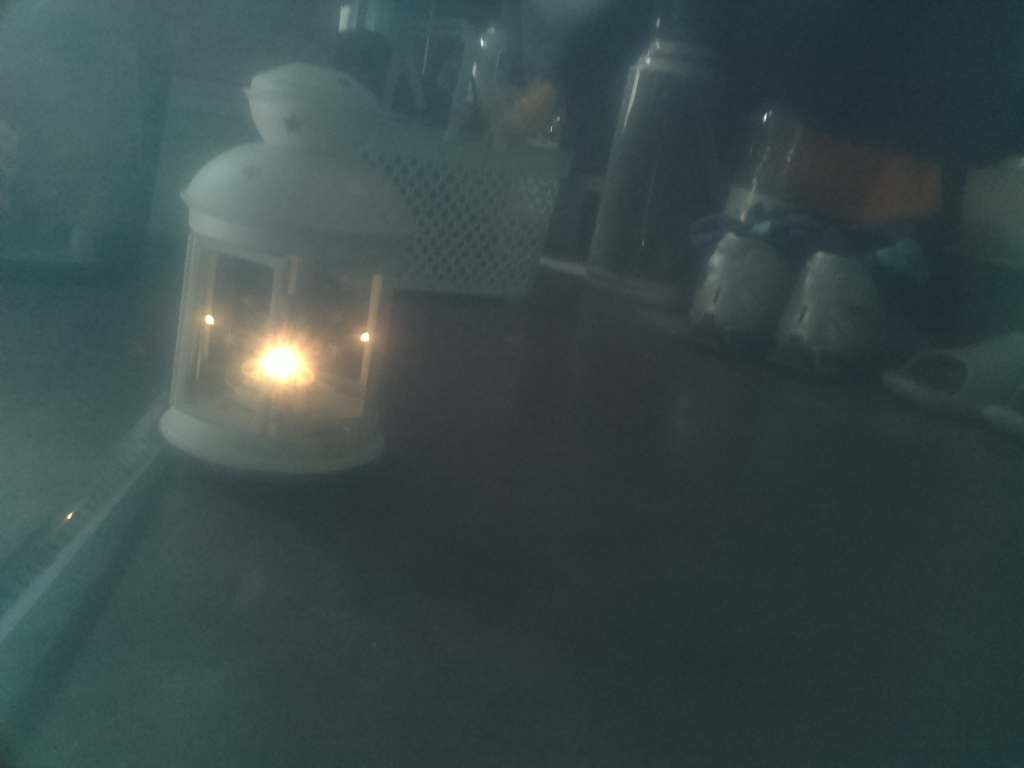fire: (242, 316, 347, 393)
